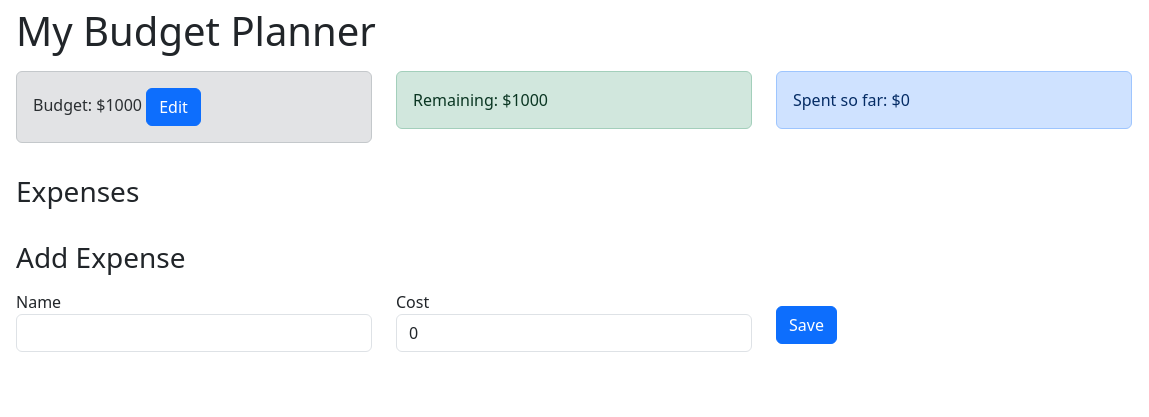
adds expense then delete it
Type "COBLENZ IS AWESOME" into the field with test id "NAMEINPUT" at (194, 333), box left=16, top=314, right=372, bottom=352
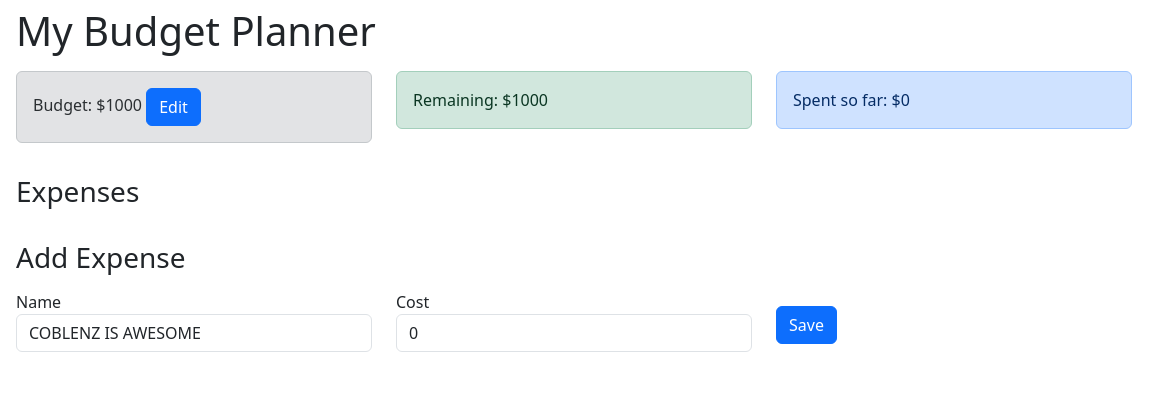
Replace the text in the field with test id "COSTINPUT" with "100" at (574, 333), box left=396, top=314, right=752, bottom=352
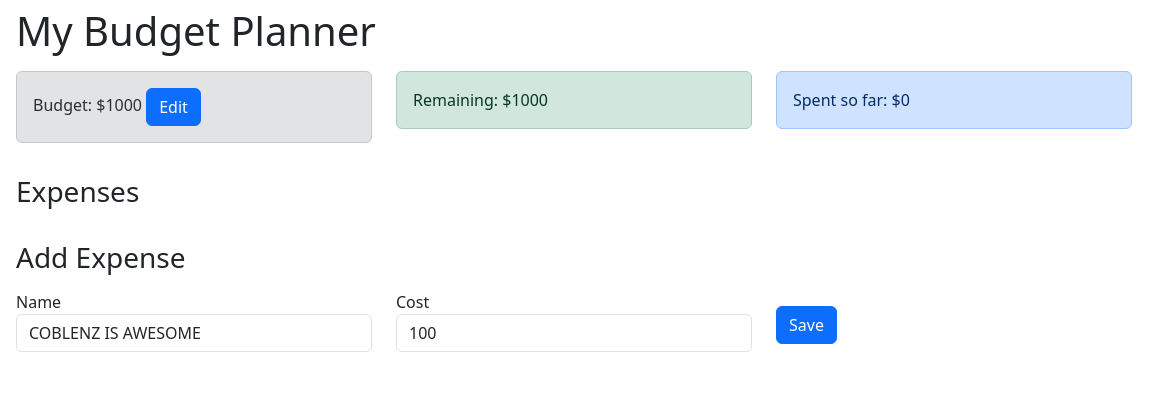
Click the button "Save" at (806, 325), box left=776, top=306, right=837, bottom=344
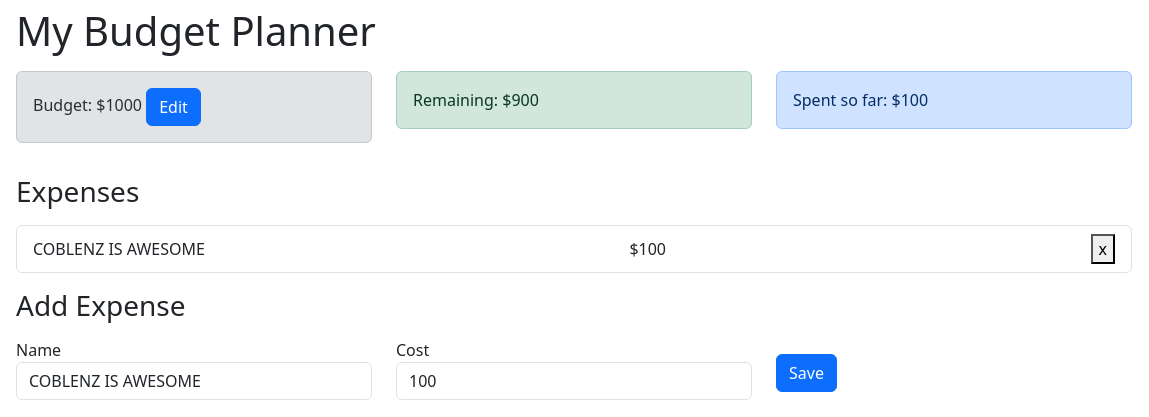
Result: the text with test id "0n" reads "COBLENZ IS AWESOME" at left=33, top=238, right=205, bottom=260
Result: the text with test id "0c" reads "$100" at left=629, top=237, right=666, bottom=261
Result: the text "Remaining: $900" is shown at left=413, top=89, right=539, bottom=111
Click the button with test id "0d" at (1103, 249), box left=1090, top=234, right=1115, bottom=264
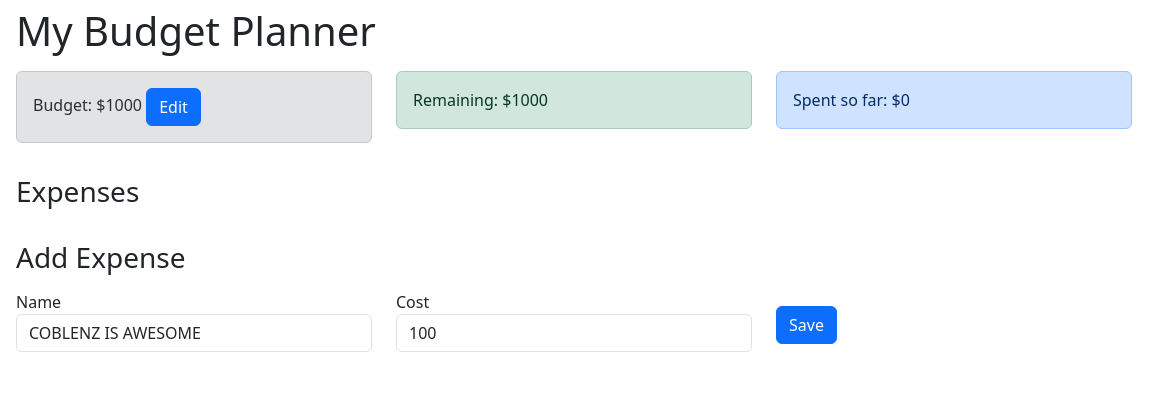
Result: the text with test id "0n" is gone
Result: the text with test id "0c" is gone
Result: the button with test id "0d" is gone
